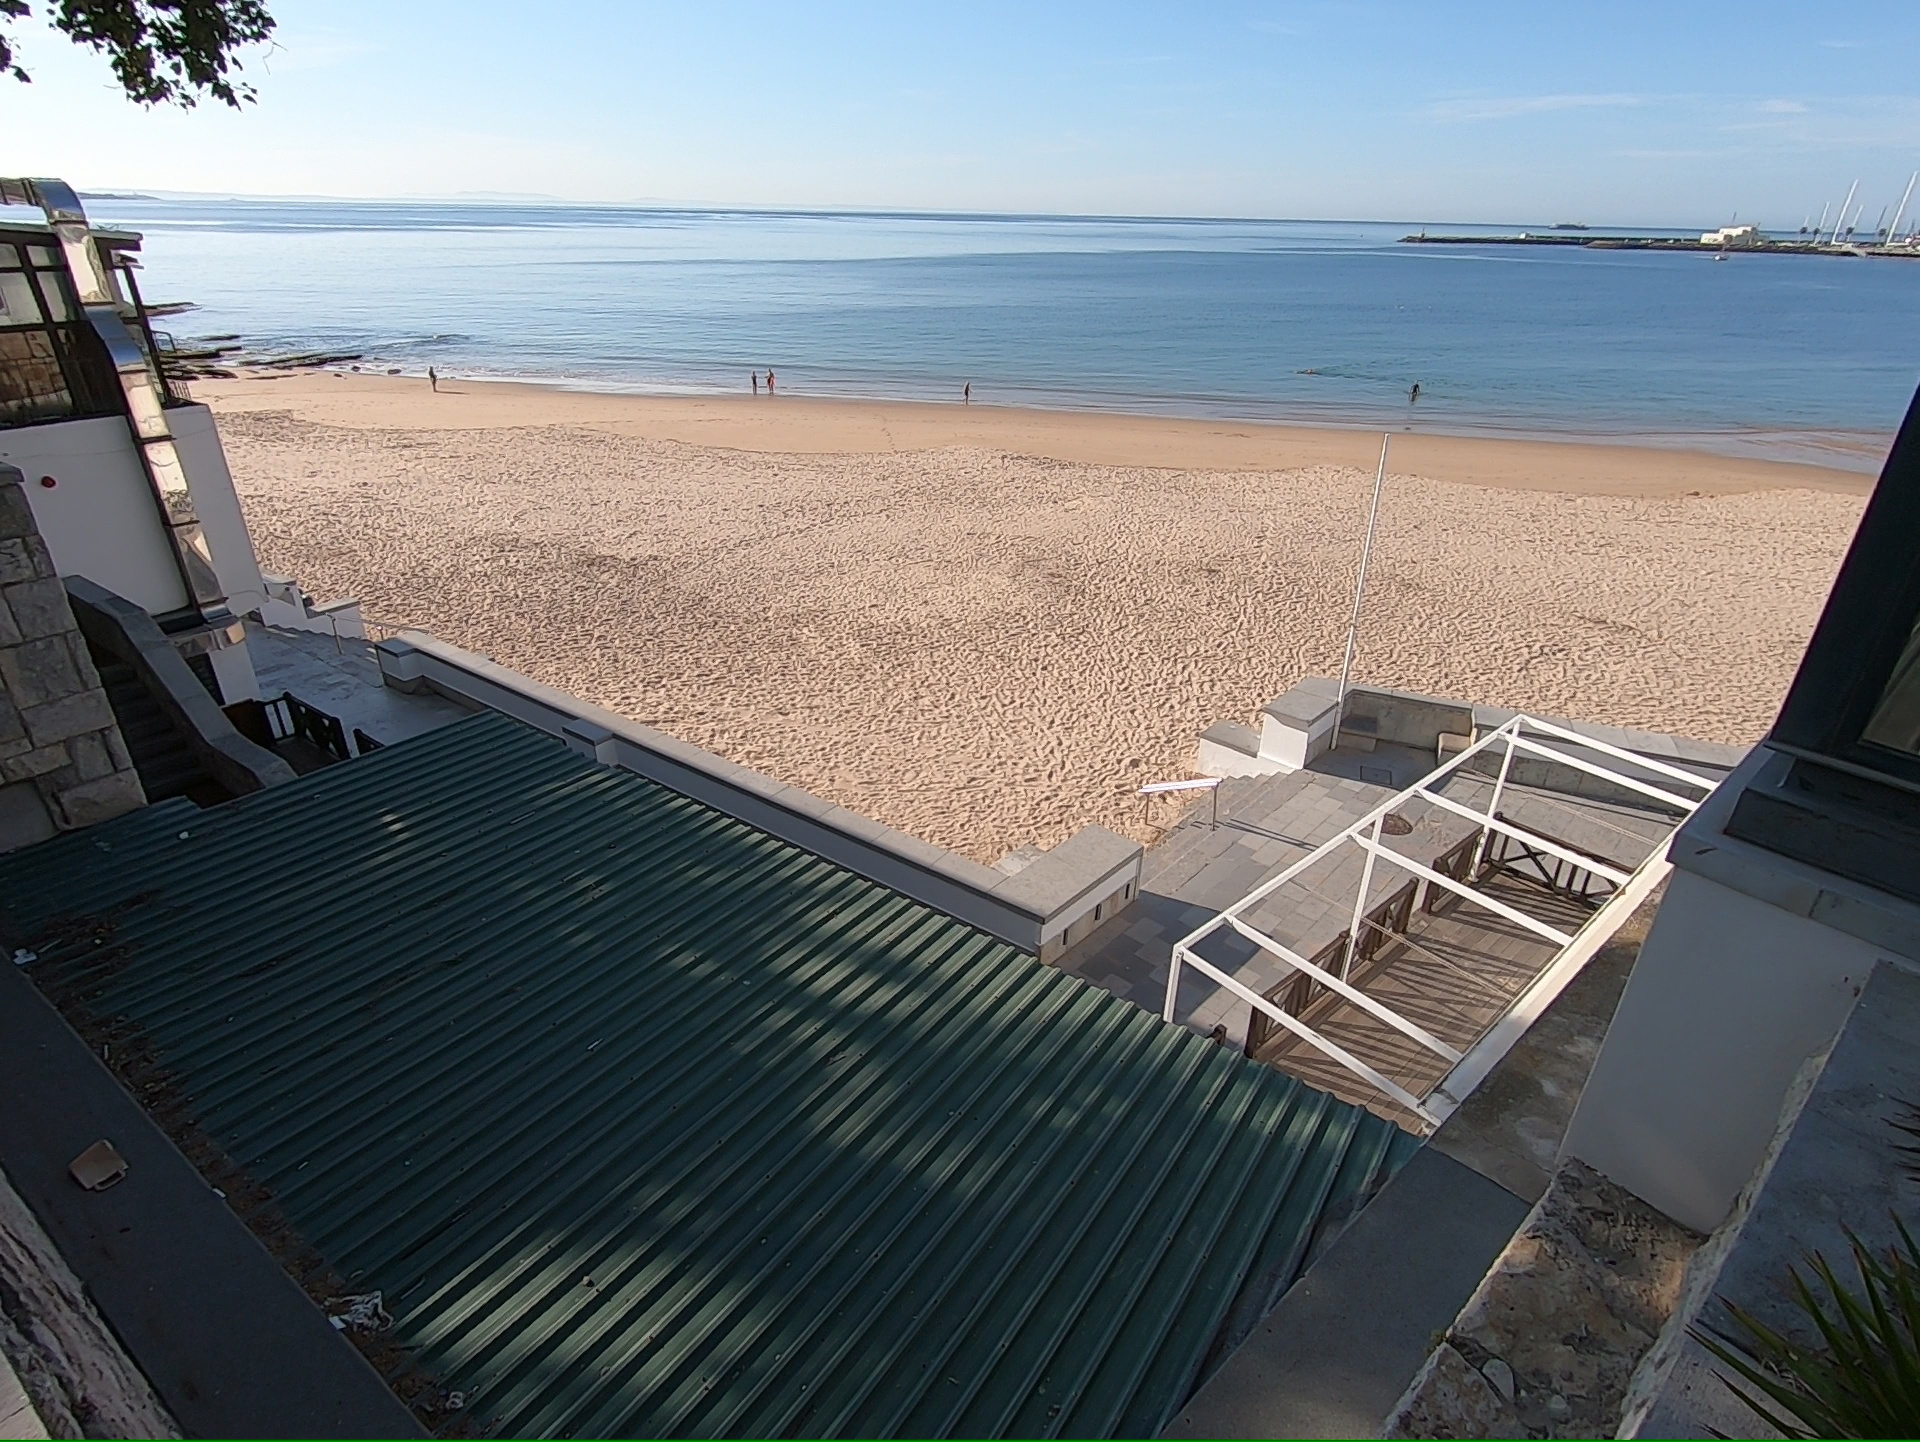person: (427, 365, 440, 393), (962, 376, 974, 405), (766, 369, 777, 394), (749, 371, 759, 395), (1409, 380, 1421, 398)
